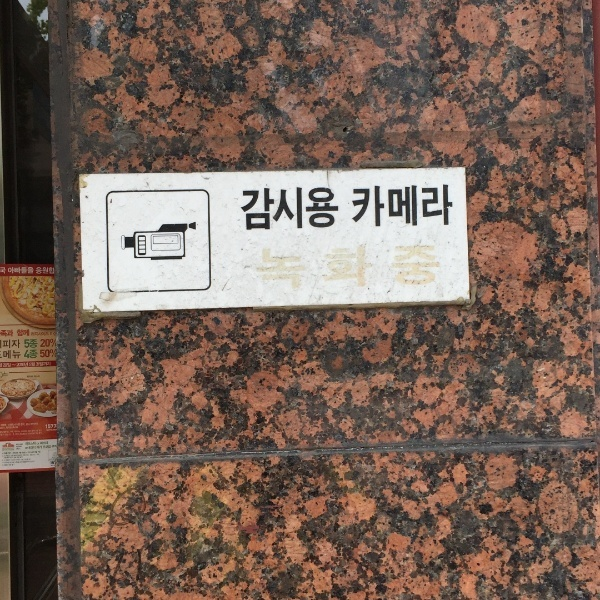text: (257, 243, 272, 294), (273, 243, 288, 294), (289, 243, 304, 294), (305, 243, 320, 294), (321, 243, 336, 294), (337, 243, 352, 294), (353, 243, 368, 294), (369, 243, 384, 294), (385, 243, 400, 294), (401, 243, 416, 294), (417, 243, 432, 294), (241, 186, 256, 232), (257, 186, 272, 232), (273, 186, 288, 232), (289, 186, 304, 232), (305, 186, 320, 232), (321, 186, 336, 232), (353, 183, 368, 228), (369, 183, 384, 228), (385, 183, 400, 228), (401, 183, 416, 228), (417, 183, 432, 228), (433, 183, 448, 228), (433, 243, 442, 294), (1, 444, 16, 469), (17, 444, 32, 469), (449, 183, 454, 228), (1, 422, 16, 437), (17, 422, 32, 437), (33, 422, 44, 437), (337, 186, 340, 232), (1, 329, 16, 338), (3, 339, 16, 349), (3, 350, 16, 360), (33, 444, 38, 469), (1, 267, 16, 275), (17, 329, 32, 337), (17, 267, 32, 274), (33, 444, 48, 451), (36, 268, 48, 276), (1, 362, 16, 368), (17, 362, 32, 368), (33, 362, 48, 368), (33, 332, 49, 337), (49, 338, 57, 348), (40, 349, 48, 359), (49, 349, 57, 359), (24, 339, 32, 349), (24, 349, 32, 359), (33, 442, 49, 447), (50, 332, 64, 337), (41, 338, 48, 348), (49, 444, 58, 451), (33, 339, 39, 349), (33, 349, 39, 359), (8, 267, 16, 274), (51, 462, 64, 466), (255, 243, 256, 294), (17, 350, 22, 360), (49, 268, 55, 276), (49, 424, 57, 430), (17, 339, 21, 349), (26, 442, 32, 447), (29, 444, 32, 451), (49, 362, 51, 368), (46, 424, 48, 430), (33, 267, 34, 274), (31, 332, 32, 337)
